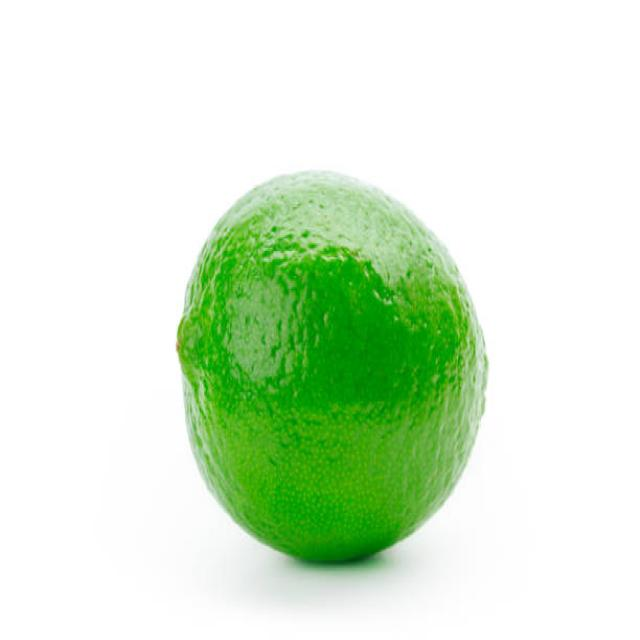Unripe: (175, 166, 489, 565)
